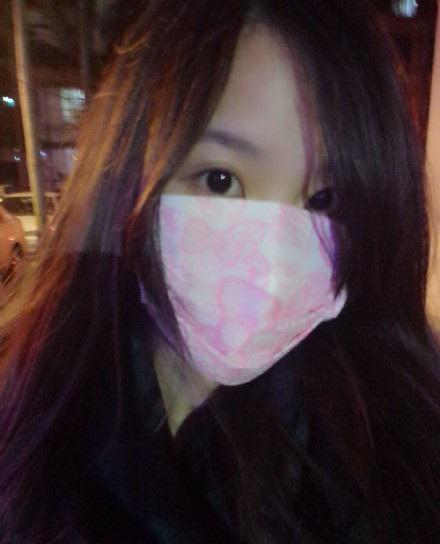OK: (140, 116, 389, 365)
